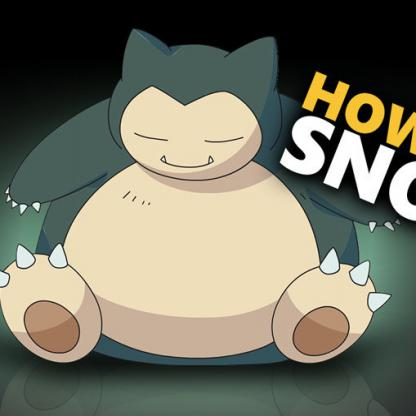Snorlax: (1, 24, 393, 371)
